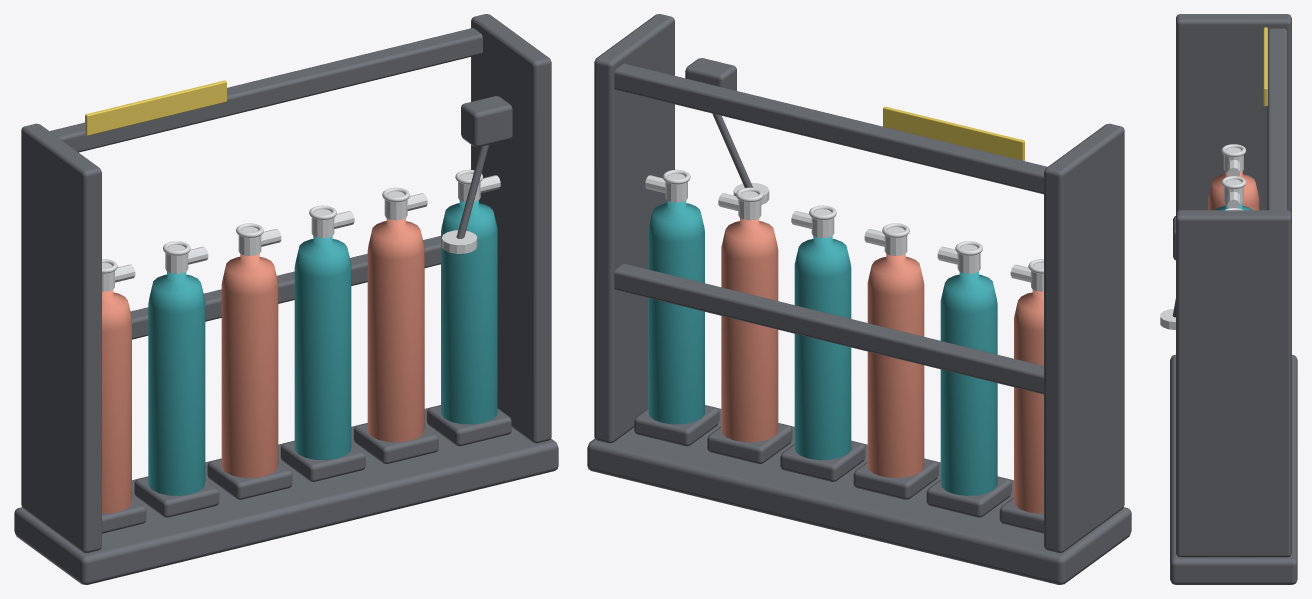
File: public-aquarium-and-marine-centre-dive-cylinder-rack-2c4abbb1__34191.glb
The picture shows the model from 3 angles, left to right: view 1: azimuth 30°, elevation 25°; view 2: azimuth 150°, elevation 25°; view 3: azimuth 270°, elevation 25°; orthographic projection. The views are drawn at different scales.
Visible parts, largest first — view 1: dive-cylinder-rack; view 2: dive-cylinder-rack; view 3: dive-cylinder-rack.
Part boxes in pixels (x1,y1,x2,y2): dive-cylinder-rack: (14, 14, 558, 584); dive-cylinder-rack: (587, 14, 1131, 584); dive-cylinder-rack: (1160, 14, 1297, 584).
Bounding box in the file's own units: 1.7 × 1.43 × 0.4736.
